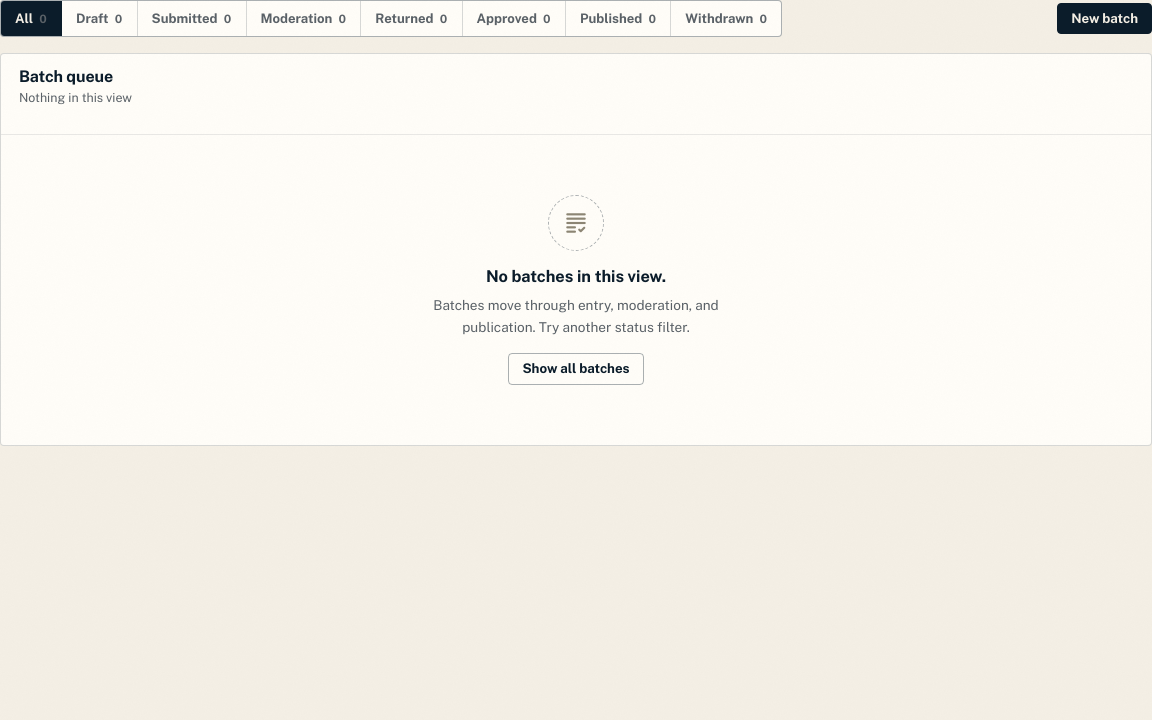
Scenario: new batch creation › lists a component-less term and replaces the dead-end Subject select with an actionable empty state
Click the button "New batch": (1105, 18) 1057,2 -> 1151,34
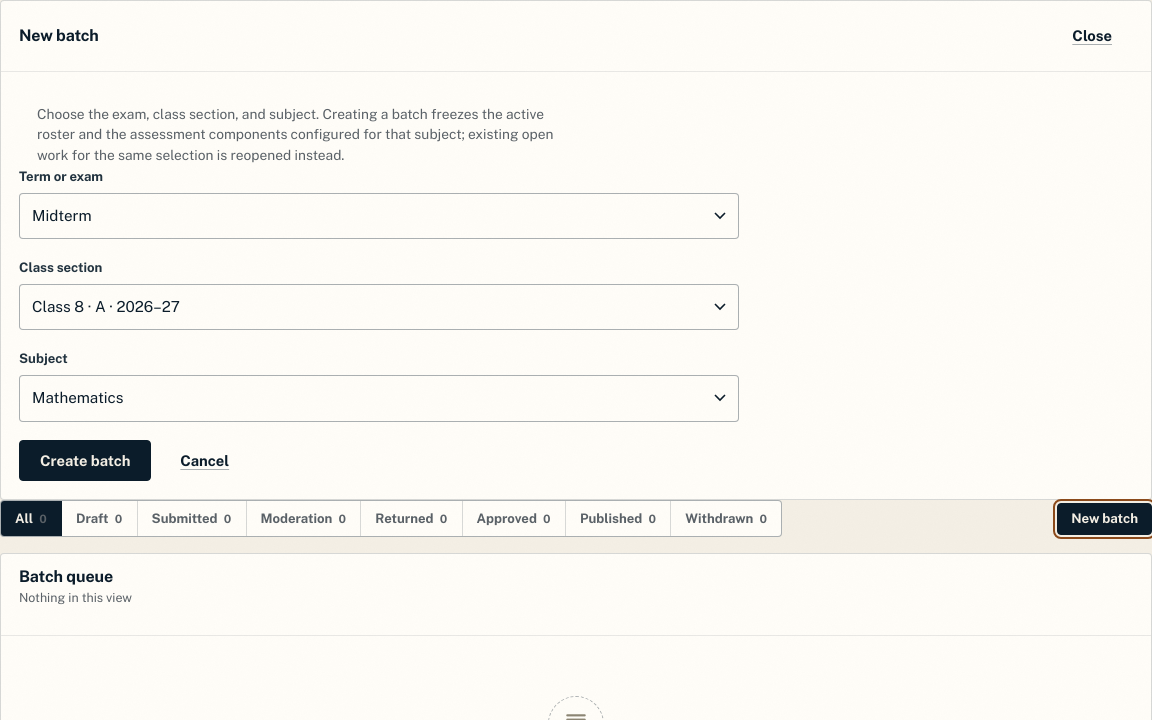
Select "Final" in the dropdown labelled "Term or exam": (379, 216) 19,193 -> 739,239
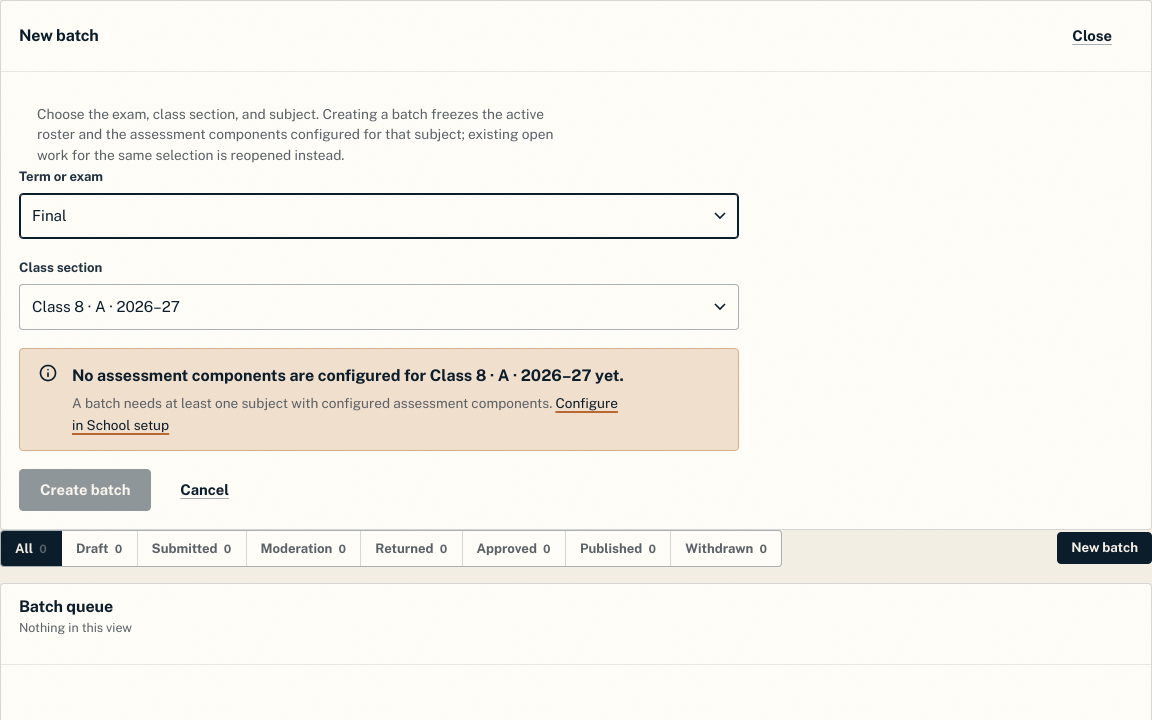
expect the text "No assessment components are configured for Class 8 · A · 2026–27 yet." is shown: met, box 72,363 -> 624,389
expect the button "Create batch" is disabled: met, box 19,469 -> 151,511
Select "Midterm" in the dropdown labelled "Term or exam": (379, 216) 19,193 -> 739,239
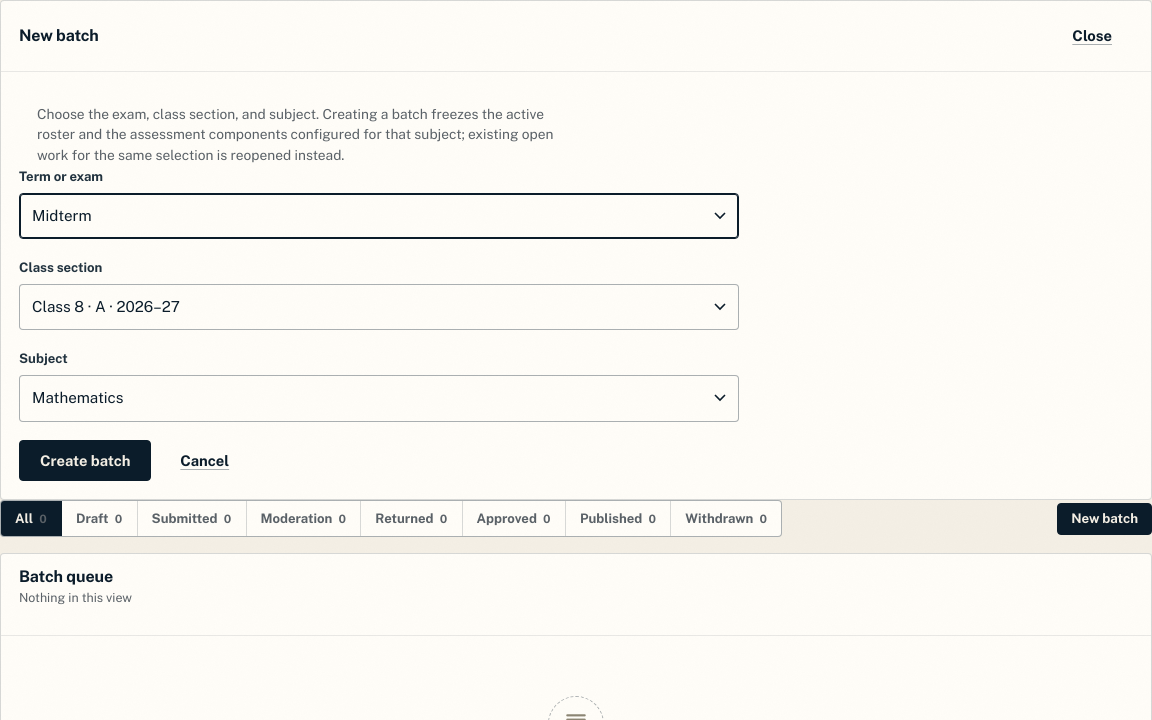
expect the dropdown labelled "Subject" shows "Mathematics": met, box 19,375 -> 739,422
expect the button "Create batch" is enabled: met, box 19,440 -> 151,481
